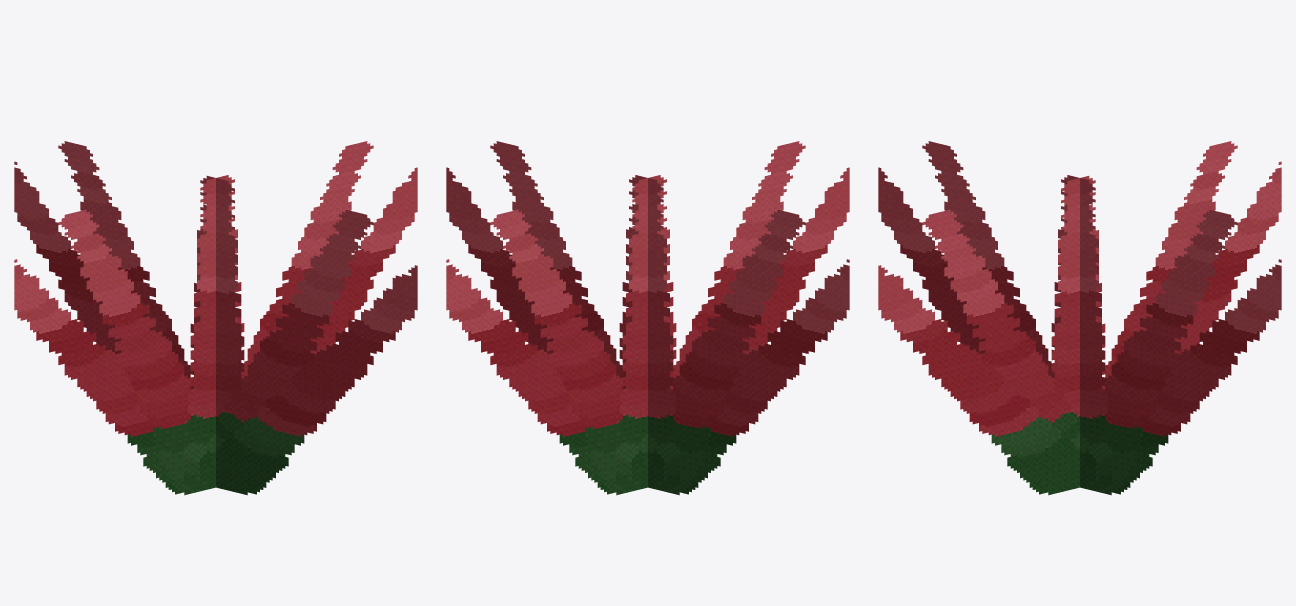
File: samambaia_carmesim.glb
The picture shows the model from 3 angles, left to right: view 1: azimuth 30°, elevation 25°; view 2: azimuth 150°, elevation 25°; view 3: azimuth 270°, elevation 25°; orthographic projection.
Parts seen in each view (by area): view 1: samambaia_carmesim; view 2: samambaia_carmesim; view 3: samambaia_carmesim.
Part boxes in pixels (x1=…): samambaia_carmesim: x1=14, y1=141, x2=417, y2=495; samambaia_carmesim: x1=446, y1=141, x2=849, y2=495; samambaia_carmesim: x1=878, y1=141, x2=1281, y2=495.
Size of the model in its own units: 0.82 by 0.74 by 0.7101.
1 material, 1 textured.
